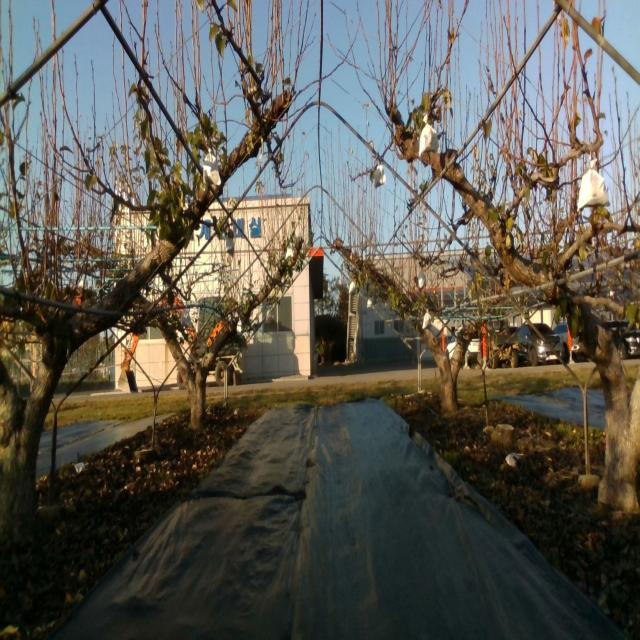pearbags: (576, 159, 611, 210), (418, 115, 442, 156), (202, 150, 220, 188), (374, 163, 386, 187), (180, 307, 192, 328)
